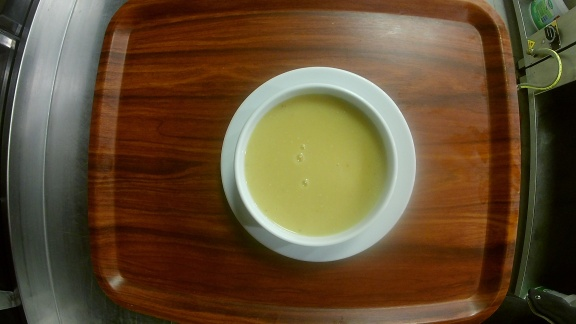mercimek: (218, 66, 419, 263)
